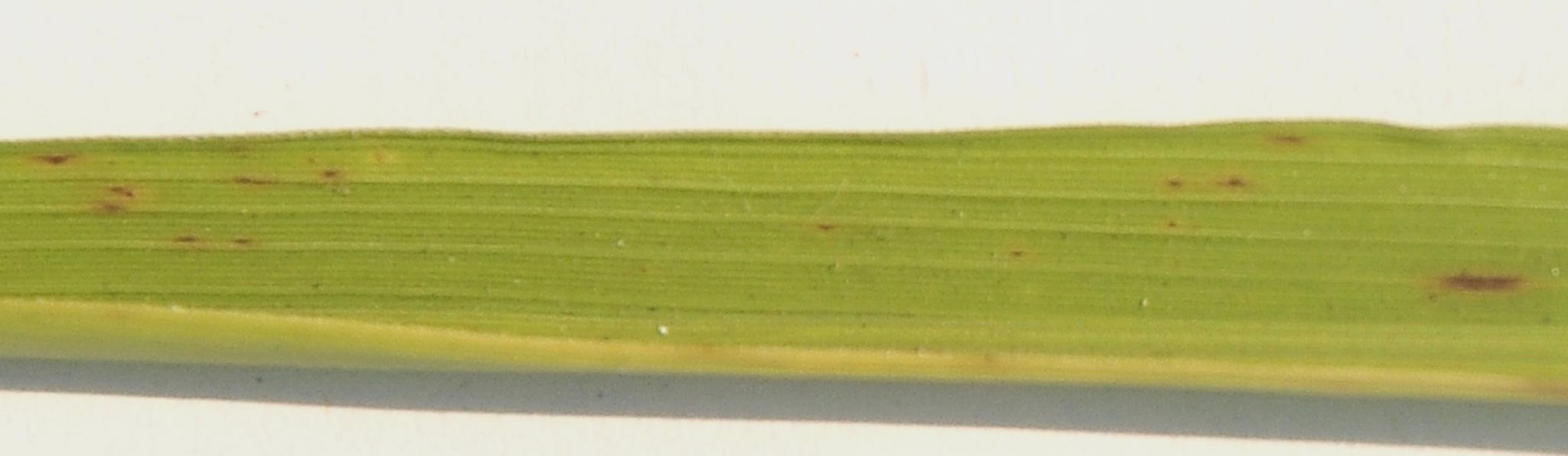Bacterial_Leaf_Blight: (15, 75, 398, 261), (1127, 158, 1270, 232), (1415, 258, 1542, 304)
